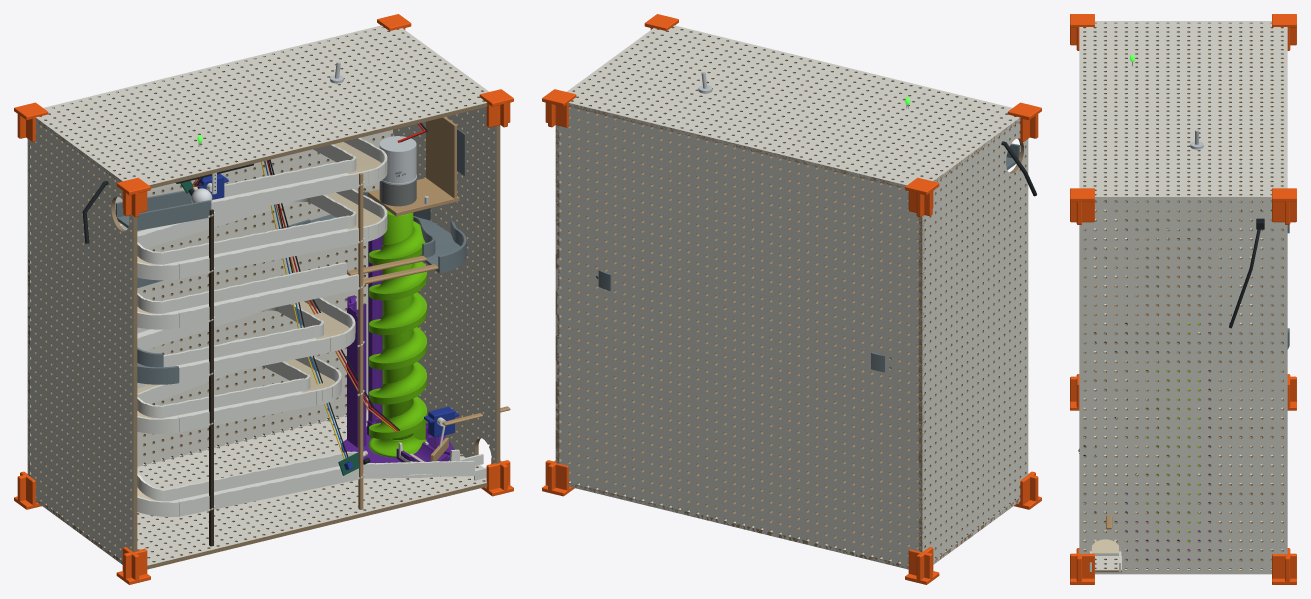
File: machine.glb
3 views of the same model, side by side, from view 1: azimuth 30°, elevation 25°; view 2: azimuth 150°, elevation 25°; view 3: azimuth 270°, elevation 25° (orthographic).
Visible parts, largest first — view 1: Cote gauche en bois perfore, Plafond perfore ferme, Cote droit - arche de sortie, Fond en bois perfore, Plancher reel en bois perfore, Vis verte - helice prolongee jusqu'au plateau bas.001, 09 - carton droit vers batonnets, 05 - carton droit deuxieme niveau, 22 - dernier carton devant IR inferieur, 14 - carton droit quatrieme niveau, 01 - carton droit superieur, 18 - carton droit cinquieme niveau (+26 smaller); view 2: Fond en bois perfore, Cote gauche en bois perfore, Plafond perfore ferme, Cote droit - arche de sortie, Plancher reel en bois perfore; view 3: Cote droit - arche de sortie, Plafond perfore ferme, Plancher reel en bois perfore, Coin orange - aile laterale.006, Coin orange - aile laterale.004, Dernier rail carton vers ouverture droite, Coin orange - aile laterale.005, Coin orange - aile laterale.007, Alimentation moteur unique, Cote gauche en bois perfore, Coin orange - rebord.005, Coin orange - rebord.007 (+4 smaller).
Part boxes in pixels (left/top/right/bottom): Cote gauche en bois perfore: left=27, top=116, right=137, bottom=564; Plafond perfore ferme: left=36, top=25, right=489, bottom=188; Cote droit - arche de sortie: left=391, top=29, right=500, bottom=463; Fond en bois perfore: left=27, top=26, right=394, bottom=475; Plancher reel en bois perfore: left=35, top=410, right=487, bottom=569; Vis verte - helice prolongee jusqu'au plateau bas.001: left=369, top=221, right=426, bottom=439; 09 - carton droit vers batonnets: left=162, top=262, right=358, bottom=327; 05 - carton droit deuxieme niveau: left=162, top=216, right=358, bottom=278; 22 - dernier carton devant IR inferieur: left=162, top=452, right=358, bottom=516; 14 - carton droit quatrieme niveau: left=163, top=325, right=330, bottom=382; 01 - carton droit superieur: left=211, top=160, right=362, bottom=216; 18 - carton droit cinquieme niveau: left=162, top=378, right=316, bottom=432; Fond en bois perfore: left=555, top=101, right=924, bottom=569; Cote gauche en bois perfore: left=918, top=116, right=1028, bottom=564; Plafond perfore ferme: left=566, top=25, right=1019, bottom=188; Cote droit - arche de sortie: left=555, top=29, right=657, bottom=463; Plancher reel en bois perfore: left=569, top=481, right=1020, bottom=569; Cote droit - arche de sortie: left=1079, top=197, right=1287, bottom=574; Plafond perfore ferme: left=1079, top=21, right=1287, bottom=200; Plancher reel en bois perfore: left=1083, top=398, right=1283, bottom=572; Coin orange - aile laterale.006: left=1272, top=553, right=1296, bottom=578; Coin orange - aile laterale.004: left=1070, top=553, right=1094, bottom=578; Dernier rail carton vers ouverture droite: left=1089, top=503, right=1121, bottom=555; Coin orange - aile laterale.005: left=1070, top=202, right=1094, bottom=222; Coin orange - aile laterale.007: left=1272, top=202, right=1296, bottom=222; Alimentation moteur unique: left=1229, top=209, right=1261, bottom=328; Cote gauche en bois perfore: left=1083, top=22, right=1283, bottom=389; Coin orange - rebord.005: left=1070, top=188, right=1094, bottom=201; Coin orange - rebord.007: left=1272, top=188, right=1296, bottom=201.
Bounding box in the file's own units: 4748 × 4424 × 2263.
